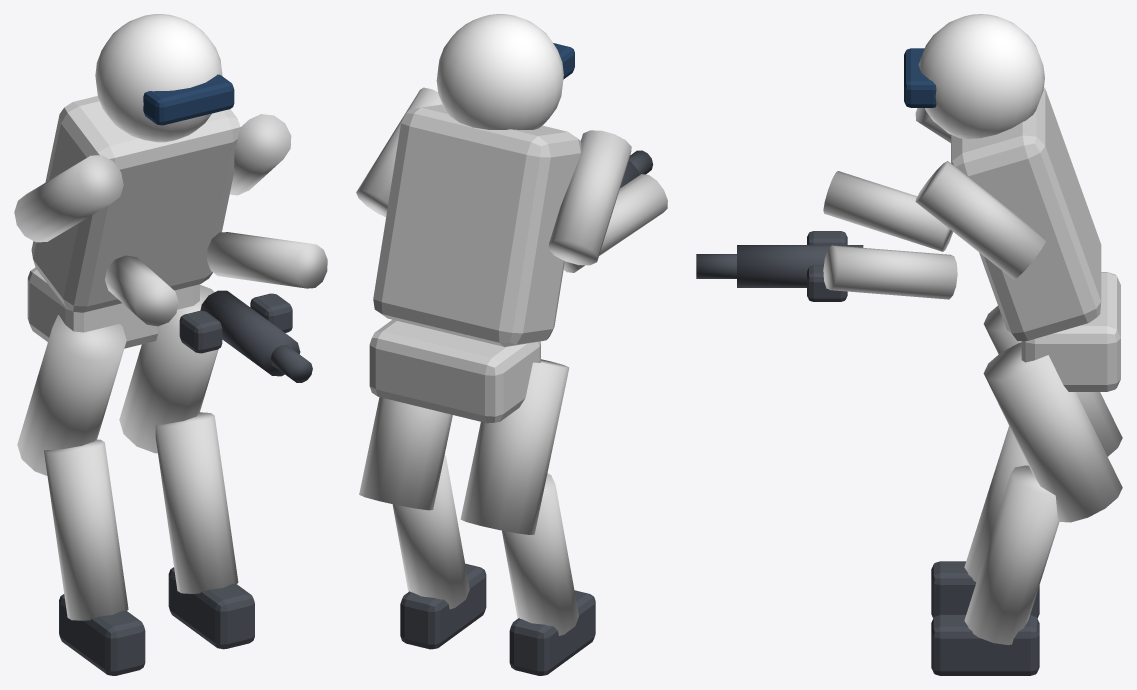
Rendered from pit_crew_member.glb.
3 views of the same model, side by side, from view 1: azimuth 30°, elevation 25°; view 2: azimuth 150°, elevation 25°; view 3: azimuth 270°, elevation 25° (orthographic).
Parts seen in each view (by area): view 1: Torso, Shin_-1, Shin_1, CrewHelmet, Thigh_-1, Thigh_1, UpperArm_-1, ForeArm_1, Pelvis, Boot_-1, Boot_1, WheelGunBody (+6 smaller); view 2: Torso, Pelvis, CrewHelmet, Thigh_-1, Thigh_1, Shin_-1, UpperArm_-1, Shin_1, Boot_-1, Boot_1, ForeArm_-1, UpperArm_1; view 3: Torso, Thigh_1, CrewHelmet, Shin_1, UpperArm_1, Pelvis, ForeArm_1, ForeArm_-1, Boot_1, WheelGunBody, Shin_-1, Boot_-1 (+4 smaller).
Part boxes in pixels (left/top/right/bottom): Torso: left=31, top=96, right=240, bottom=312; Shin_-1: left=44, top=439, right=128, bottom=620; Shin_1: left=155, top=412, right=238, bottom=593; CrewHelmet: left=95, top=14, right=222, bottom=142; Thigh_-1: left=17, top=315, right=126, bottom=475; Thigh_1: left=119, top=285, right=218, bottom=453; UpperArm_-1: left=14, top=155, right=123, bottom=242; ForeArm_1: left=207, top=232, right=327, bottom=288; Pelvis: left=27, top=267, right=199, bottom=348; Boot_-1: left=59, top=594, right=145, bottom=675; Boot_1: left=168, top=567, right=254, bottom=649; WheelGunBody: left=200, top=290, right=300, bottom=376; Torso: left=373, top=104, right=581, bottom=346; Pelvis: left=369, top=319, right=540, bottom=423; CrewHelmet: left=436, top=14, right=563, bottom=129; Thigh_-1: left=460, top=359, right=569, bottom=534; Thigh_1: left=359, top=397, right=452, bottom=510; Shin_-1: left=502, top=473, right=578, bottom=635; UpperArm_-1: left=548, top=130, right=631, bottom=265; Shin_1: left=392, top=455, right=469, bottom=609; Boot_-1: left=509, top=590, right=595, bottom=675; Boot_1: left=400, top=563, right=486, bottom=649; ForeArm_-1: left=563, top=174, right=667, bottom=272; UpperArm_1: left=356, top=87, right=442, bottom=217; Torso: left=951, top=87, right=1101, bottom=340; Thigh_1: left=983, top=342, right=1122, bottom=522; CrewHelmet: left=918, top=14, right=1044, bottom=139; Shin_1: left=964, top=465, right=1059, bottom=644; UpperArm_1: left=915, top=161, right=1045, bottom=279; Pelvis: left=1021, top=272, right=1120, bottom=391; ForeArm_1: left=823, top=245, right=957, bottom=299; ForeArm_-1: left=823, top=171, right=952, bottom=251; Boot_1: left=931, top=614, right=1039, bottom=675; WheelGunBody: left=737, top=245, right=863, bottom=287; Shin_-1: left=964, top=426, right=1028, bottom=582; Boot_-1: left=931, top=561, right=1039, bottom=618.
Size of the model in its own units: 0.6126 by 1.52 by 0.944.
